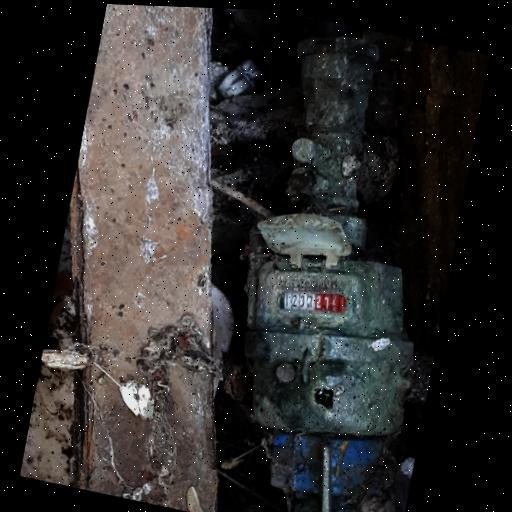1: (280, 291, 293, 310)
2: (326, 292, 341, 314), (311, 291, 324, 312), (288, 291, 301, 310)
3: (295, 291, 309, 312)
7: (319, 291, 333, 313), (303, 290, 317, 311)
border_water_meter_number: (273, 278, 351, 326)
